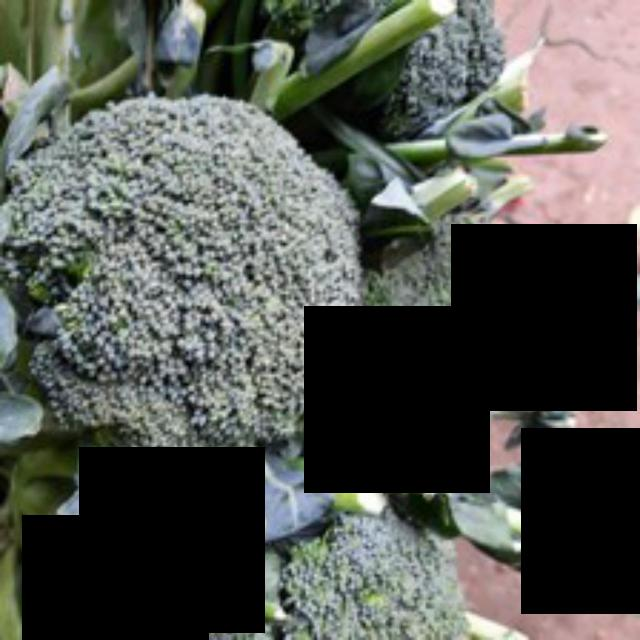broccoli: (0, 72, 368, 497)
